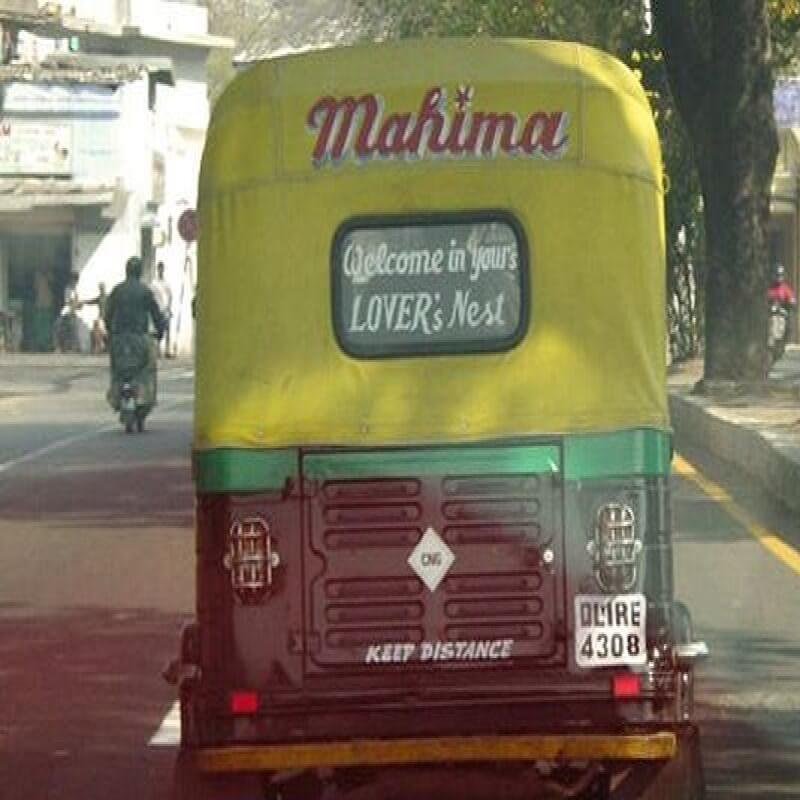auto: (177, 32, 688, 800)
